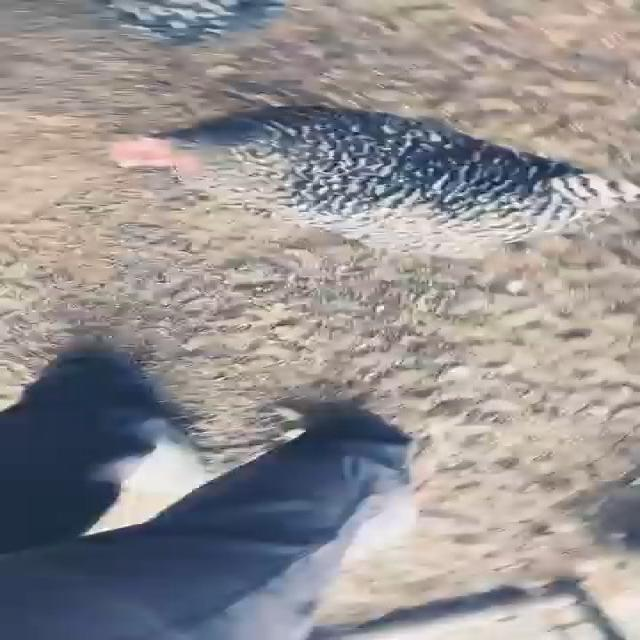pecking: (85, 90, 640, 276)
